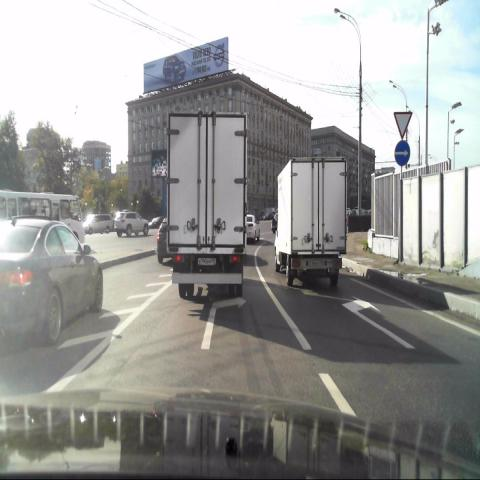4_1_2_1: (393, 140, 411, 169)
